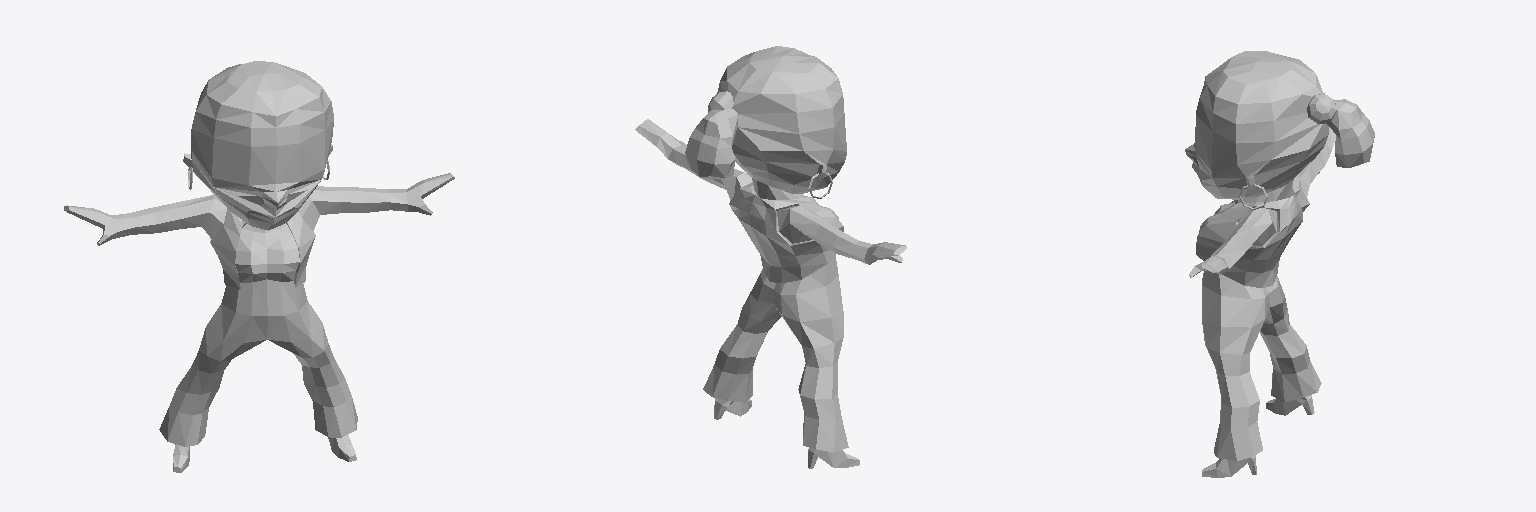
The model's file is bailarina_000151.obj.
3 views of the same model, side by side, from view 1: azimuth 30°, elevation 25°; view 2: azimuth 150°, elevation 25°; view 3: azimuth 270°, elevation 25° (orthographic).
Visible parts, largest first — view 1: bAilarina:Mesh; view 2: bAilarina:Mesh; view 3: bAilarina:Mesh.
Part boxes in pixels (x1,y1,x2,y2): bAilarina:Mesh: (64, 61, 454, 472); bAilarina:Mesh: (635, 46, 906, 468); bAilarina:Mesh: (1185, 51, 1374, 477).
Bounding box in the file's own units: 15.01 × 16.78 × 7.54.